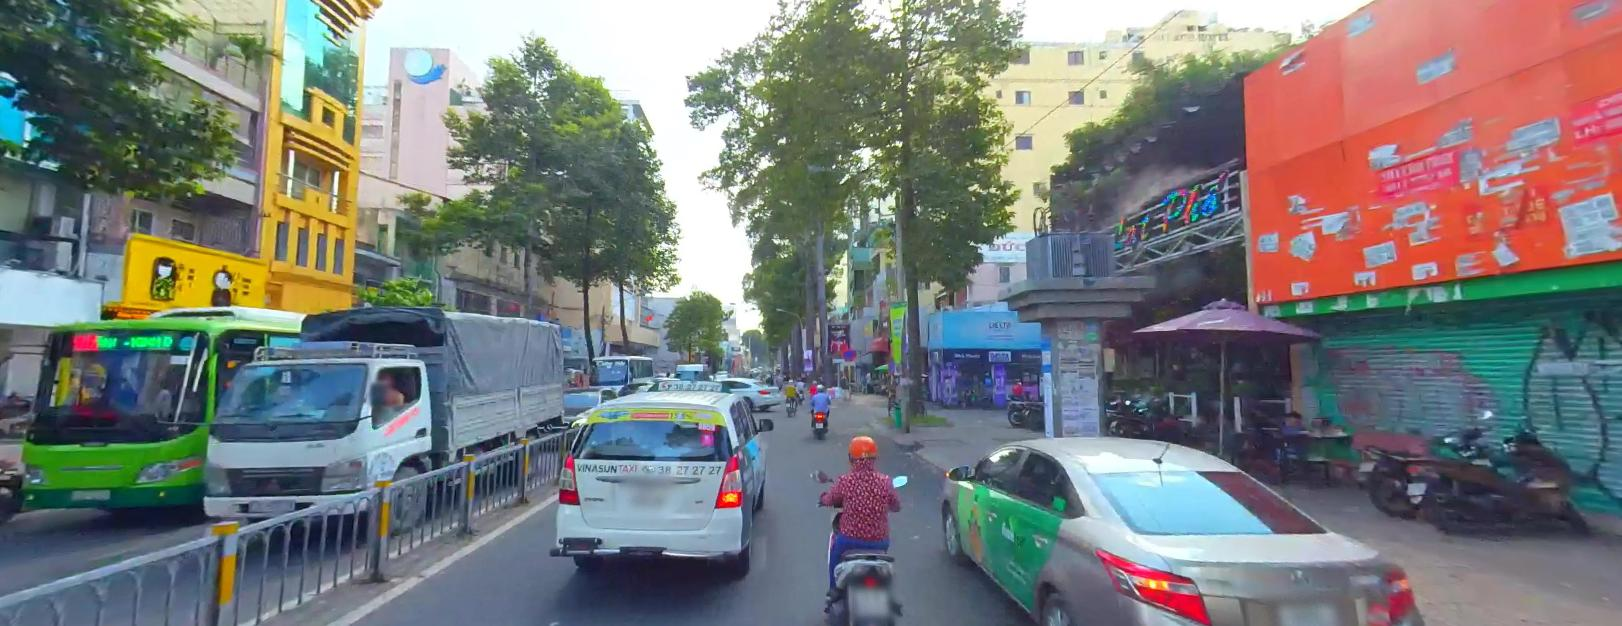Cam dung va do: (842, 346, 855, 359)
